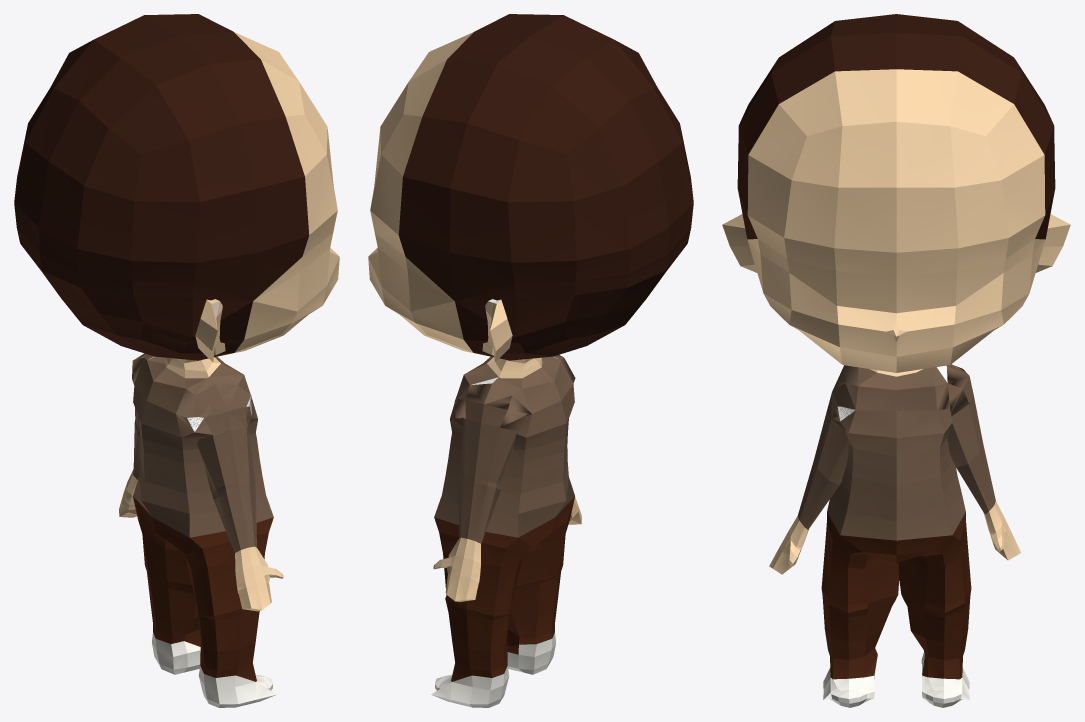
3 renders of one model, left to right at view 1: azimuth 30°, elevation 25°; view 2: azimuth 150°, elevation 25°; view 3: azimuth 270°, elevation 25°, orthographic.
Parts seen in each view (by area): view 1: head2; view 2: head2; view 3: head2.
Part boxes in pixels (x1,y1,x2,y2): head2: (14, 14, 339, 707); head2: (368, 14, 693, 707); head2: (722, 14, 1070, 707).
Bounding box in the file's own units: 5.95 × 12.96 × 6.35.
Materials: 6 (1 with a texture image).
